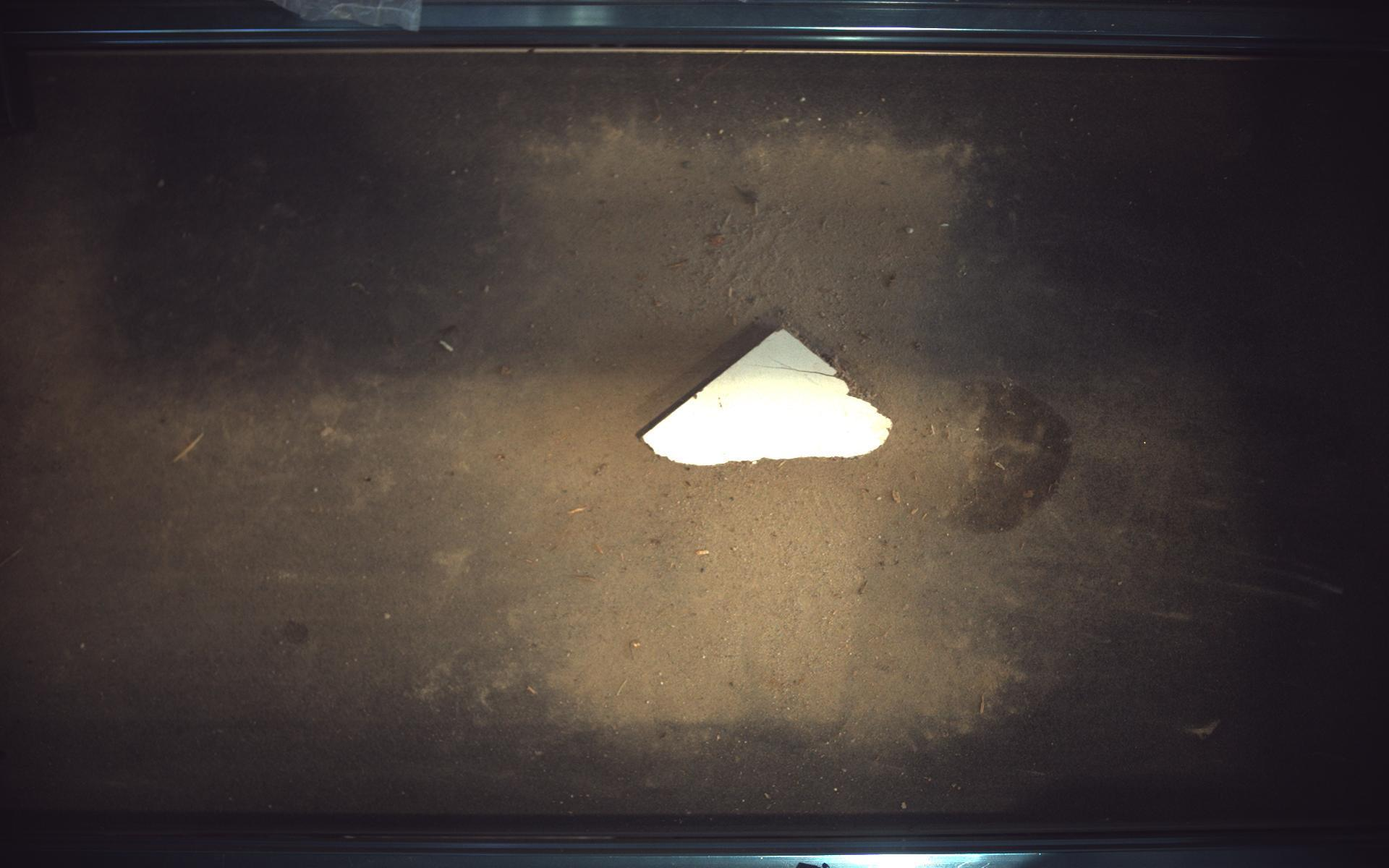wood: (644, 330, 893, 466)
